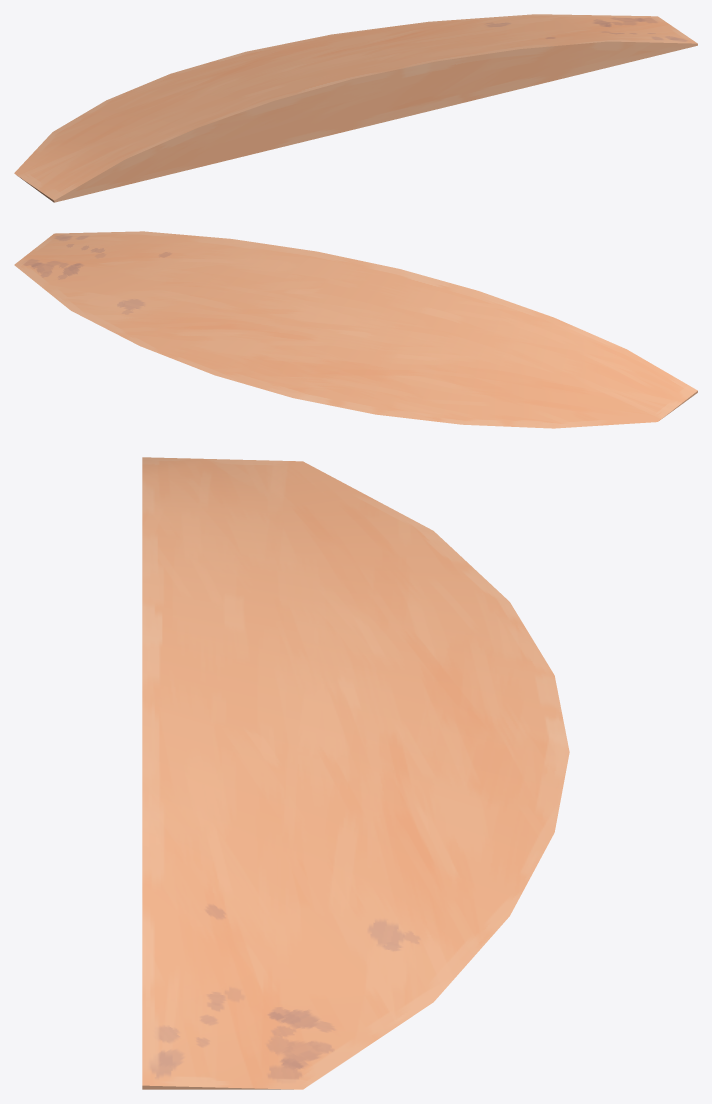
File: sand_drift_low.fbx
The picture shows the model from 3 angles, top to bottom: view 1: azimuth 30°, elevation 25°; view 2: azimuth 150°, elevation 25°; view 3: azimuth 270°, elevation 25°; orthographic projection. The views are drawn at different scales.
Visible parts, largest first — view 1: sand_drift; view 2: sand_drift; view 3: sand_drift.
Part boxes in pixels (x1,y1,x2,y2): sand_drift: (14,14,697,202); sand_drift: (14,231,697,428); sand_drift: (142,457,569,1089).
Size of the model in its own units: 6.61 by 0.5 by 1.9.
Materials: 1 (1 with a texture image).
